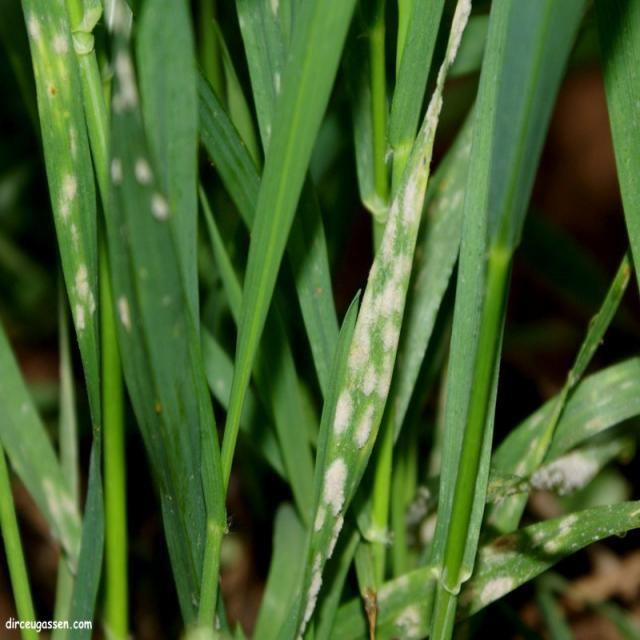Powdery_Mildew: (319, 143, 448, 634)
